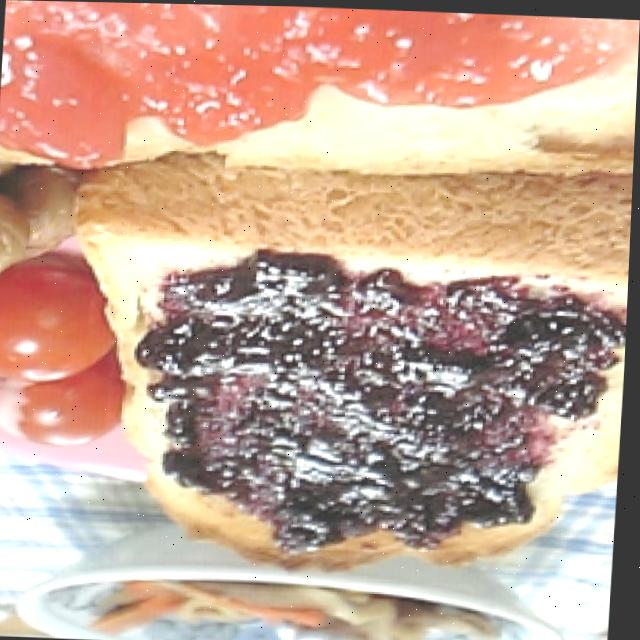面包点心: (0, 0, 640, 569)
